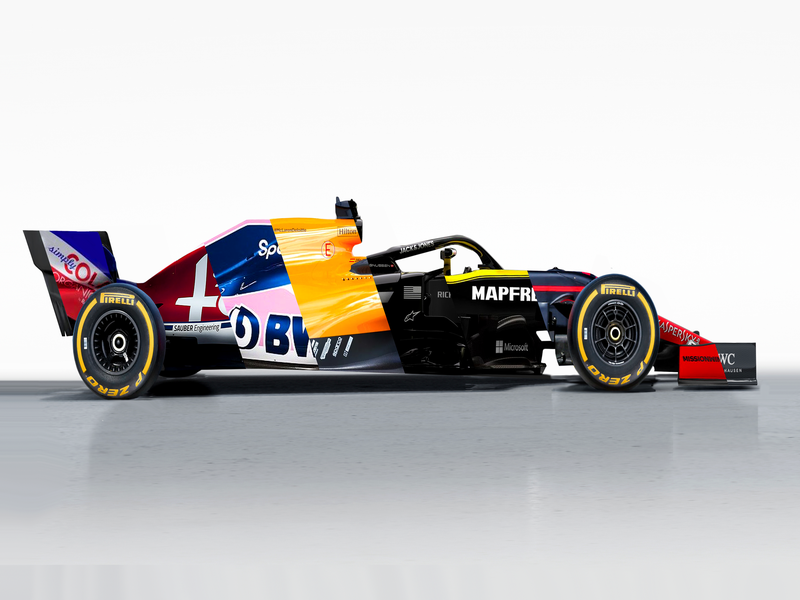f1: (10, 171, 765, 408)
